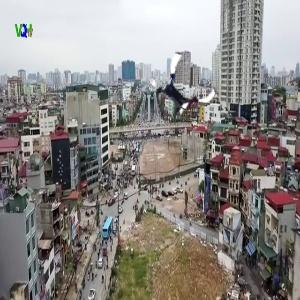drone: (152, 56, 219, 123)
